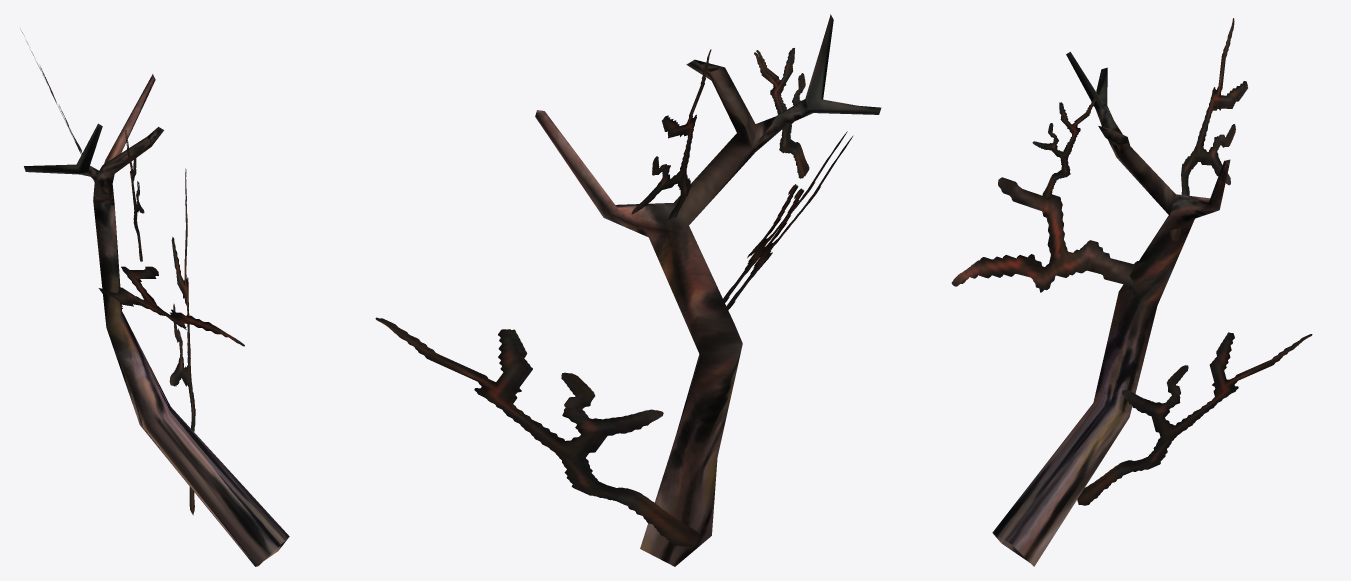
The model's file is FOL_DeadTreeBrunchB.FBX.
3 renders of one model, left to right at view 1: azimuth 30°, elevation 25°; view 2: azimuth 150°, elevation 25°; view 3: azimuth 270°, elevation 25°, orthographic. The views are drawn at different scales.
Visible parts, largest first — view 1: FOL_DeadTreeBrunchB; view 2: FOL_DeadTreeBrunchB; view 3: FOL_DeadTreeBrunchB.
Part boxes in pixels (<box>): FOL_DeadTreeBrunchB: <box>20,29,289,566</box>; FOL_DeadTreeBrunchB: <box>375,14,881,566</box>; FOL_DeadTreeBrunchB: <box>951,18,1312,566</box>.
Bounding box in the file's own units: 216 × 343 × 262.
